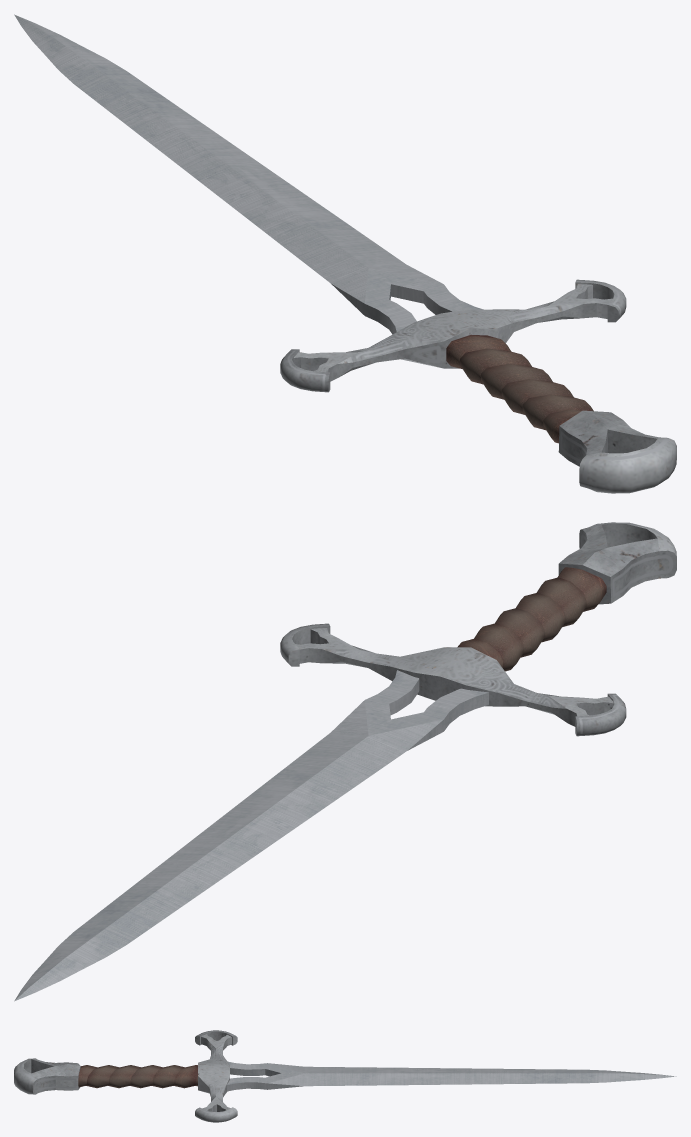
The model's file is Dagger.obj.
The picture shows the model from 3 angles, top to bottom: view 1: azimuth 30°, elevation 25°; view 2: azimuth 150°, elevation 25°; view 3: azimuth 270°, elevation 25°; orthographic projection. The views are drawn at different scales.
Visible parts, largest first — view 1: Dagger; view 2: Dagger; view 3: Dagger.
Boxes of the visible parts, <box> form: Dagger: <box>14,14,676,493</box>; Dagger: <box>14,522,676,1001</box>; Dagger: <box>14,1030,676,1122</box>.
Bounding box in the file's own units: 18.37 × 2.5 × 60.
Materials: 1 (1 with a texture image).
